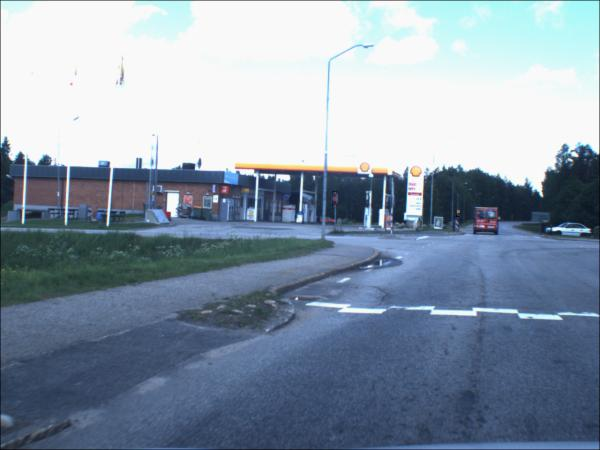50_SIGN: (457, 211, 461, 215)
PRIORITY_ROAD: (456, 215, 460, 219)
STOP: (332, 192, 338, 208)
